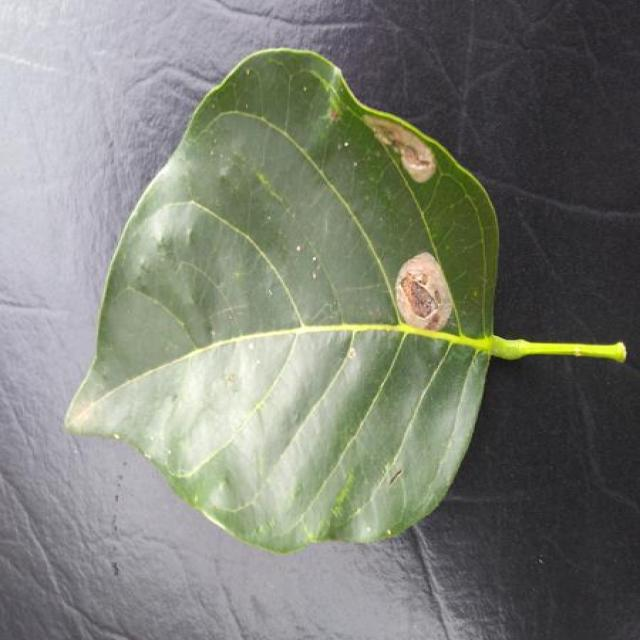honge: (65, 49, 627, 552)
powdery mildew: (395, 251, 453, 331), (365, 116, 410, 143)
